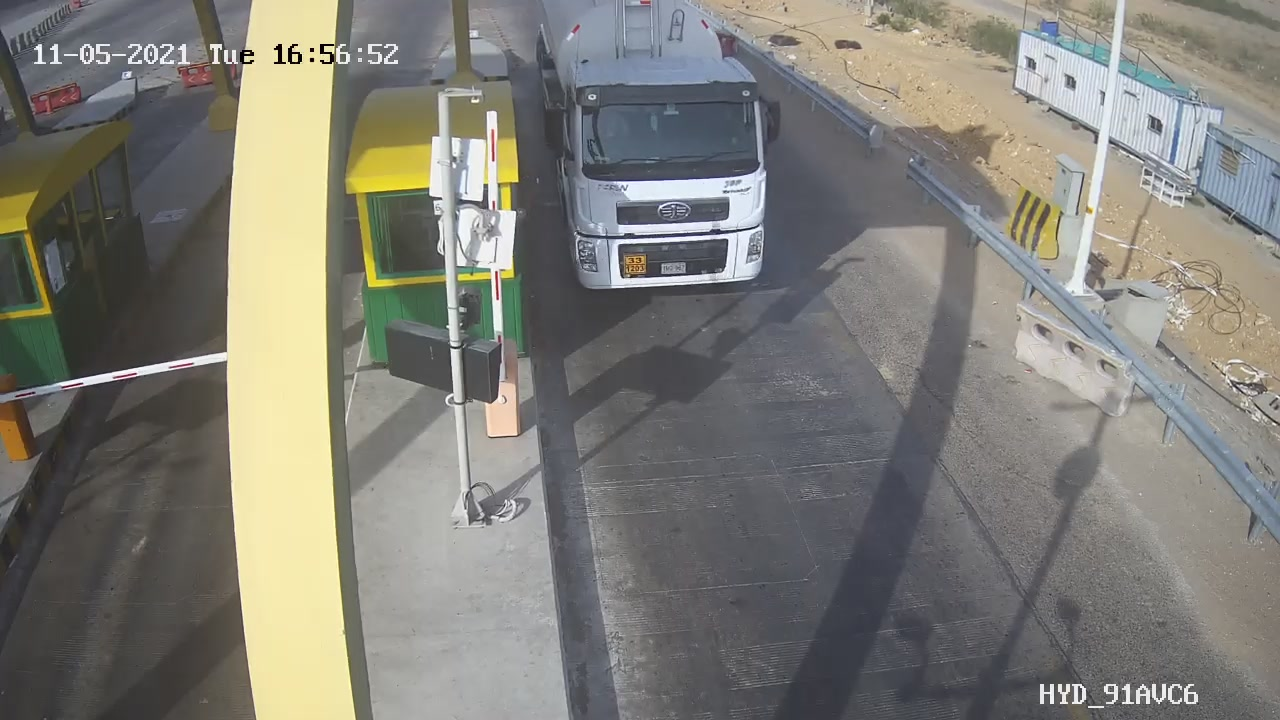F6: (520, 3, 805, 327)
